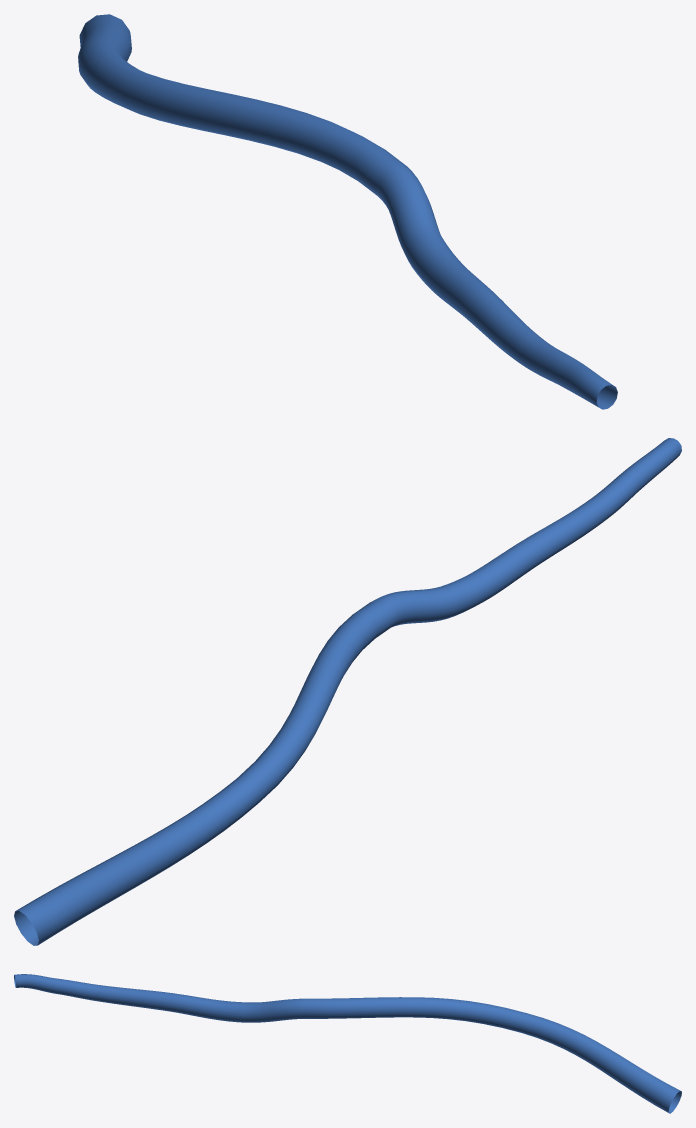
The picture shows the model from 3 angles, top to bottom: view 1: azimuth 30°, elevation 25°; view 2: azimuth 150°, elevation 25°; view 3: azimuth 270°, elevation 25°; orthographic projection. The views are drawn at different scales.
Visible parts, largest first — view 1: 右侧颈外静脉; view 2: 右侧颈外静脉; view 3: 右侧颈外静脉.
Part boxes in pixels (left/top/right/bottom): 右侧颈外静脉: left=78, top=14, right=617, bottom=409; 右侧颈外静脉: left=14, top=438, right=681, bottom=945; 右侧颈外静脉: left=14, top=974, right=681, bottom=1113.
Size of the model in its own units: 0.0312 by 0.031 by 0.1878.
